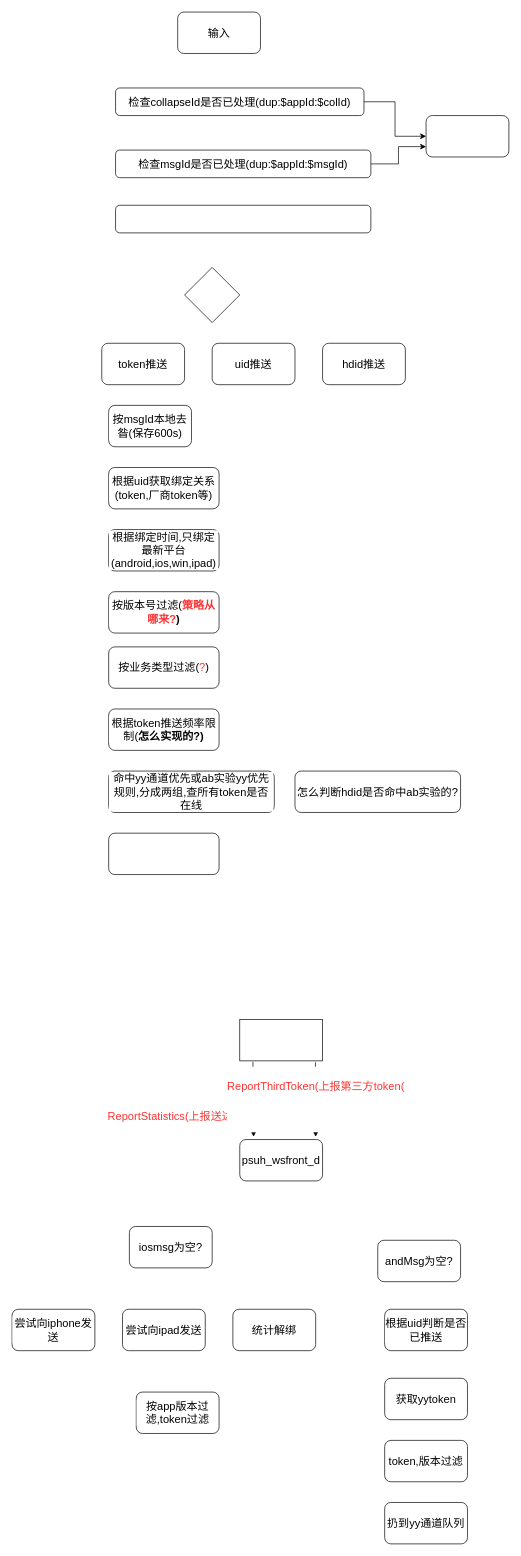
Image size: 521x1556. Some labels were removed from this diagram. Here are the shapes that lost their labels. From the top down, the centre of each, then its label:
At point 467,136: "结束".
At point 243,219: "保存1,2的key,用于去重，value是当前服务器时间".
At point 212,295: "uri".
At point 281,1040: "sdk".
